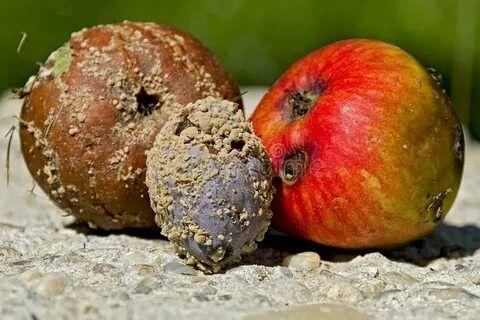Apple: (252, 41, 465, 248), (146, 100, 272, 274)
